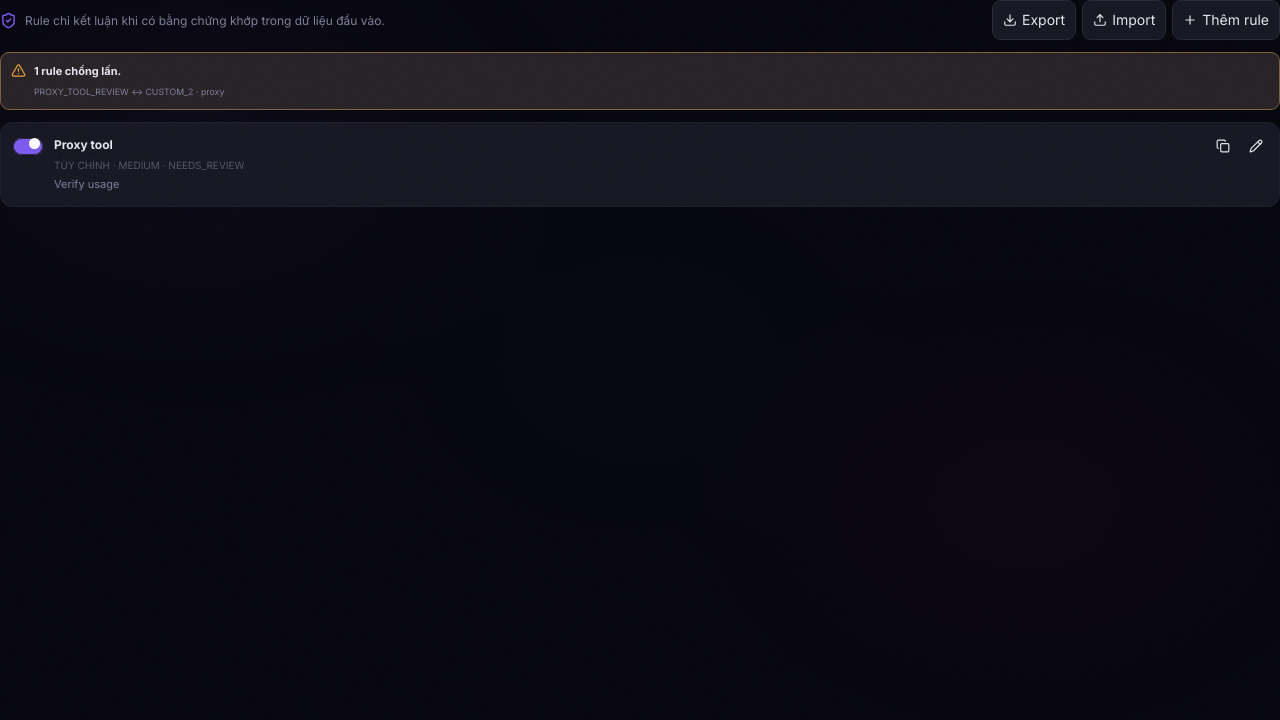
RuleManager › requires a current dry-run before saving and applying a rule
The width and height of the screenshot is (1280, 720).
Click the button "Thêm rule": (1226, 20) top-left (1172, 0), bottom-right (1279, 40)
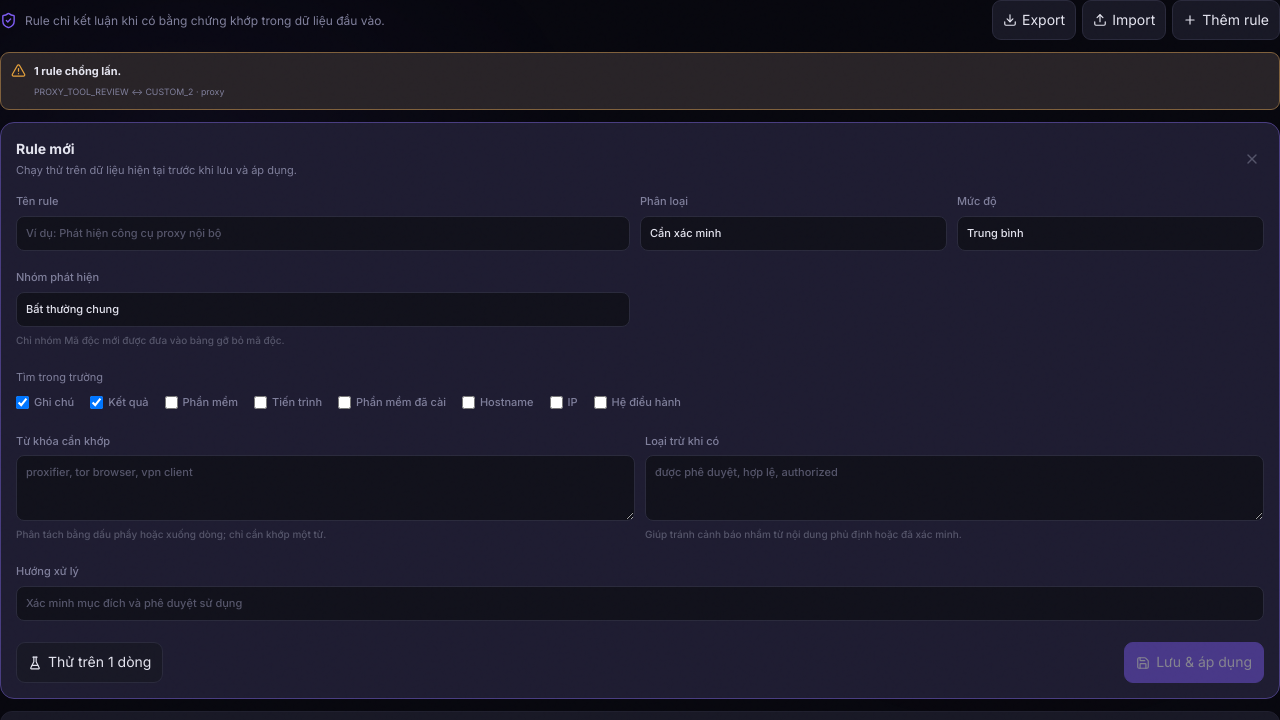
In the field labelled "Tên rule": (323, 233) top-left (16, 216), bottom-right (630, 251), type "Proxy nội bộ"
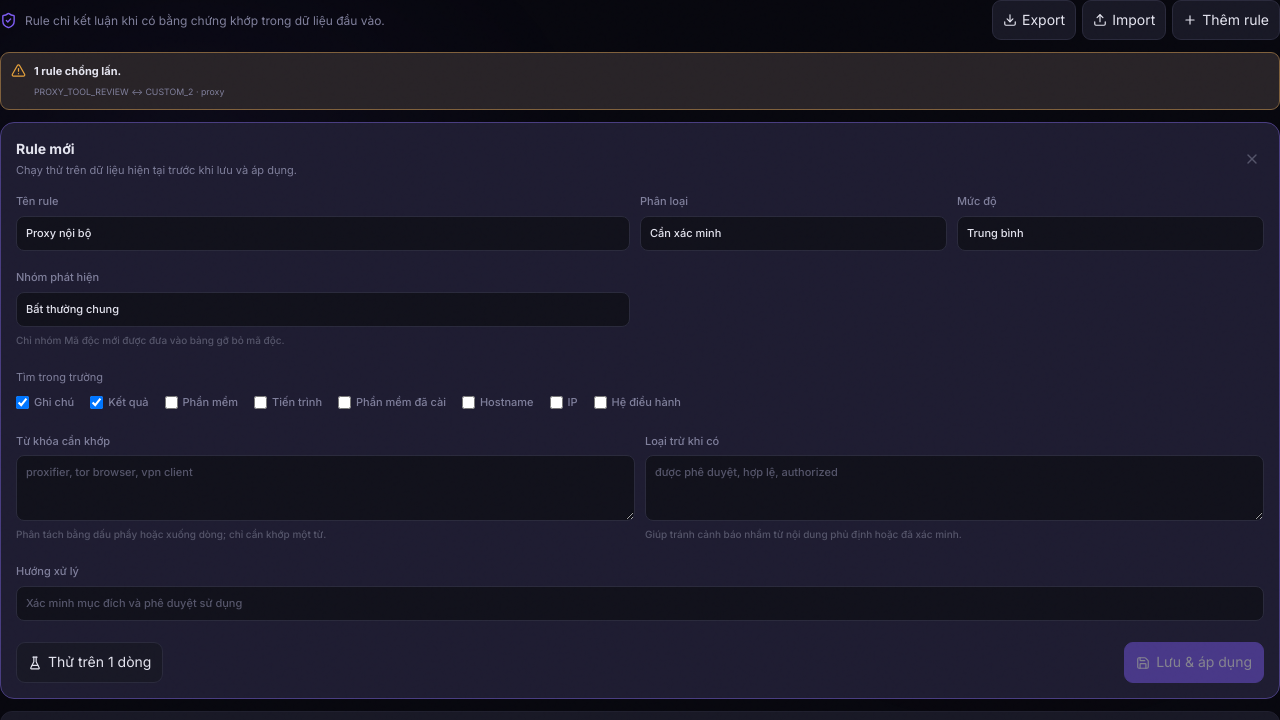
In the text box labelled "Từ khóa cần khớp": (326, 488) top-left (16, 455), bottom-right (635, 521), type "Acme Relay"
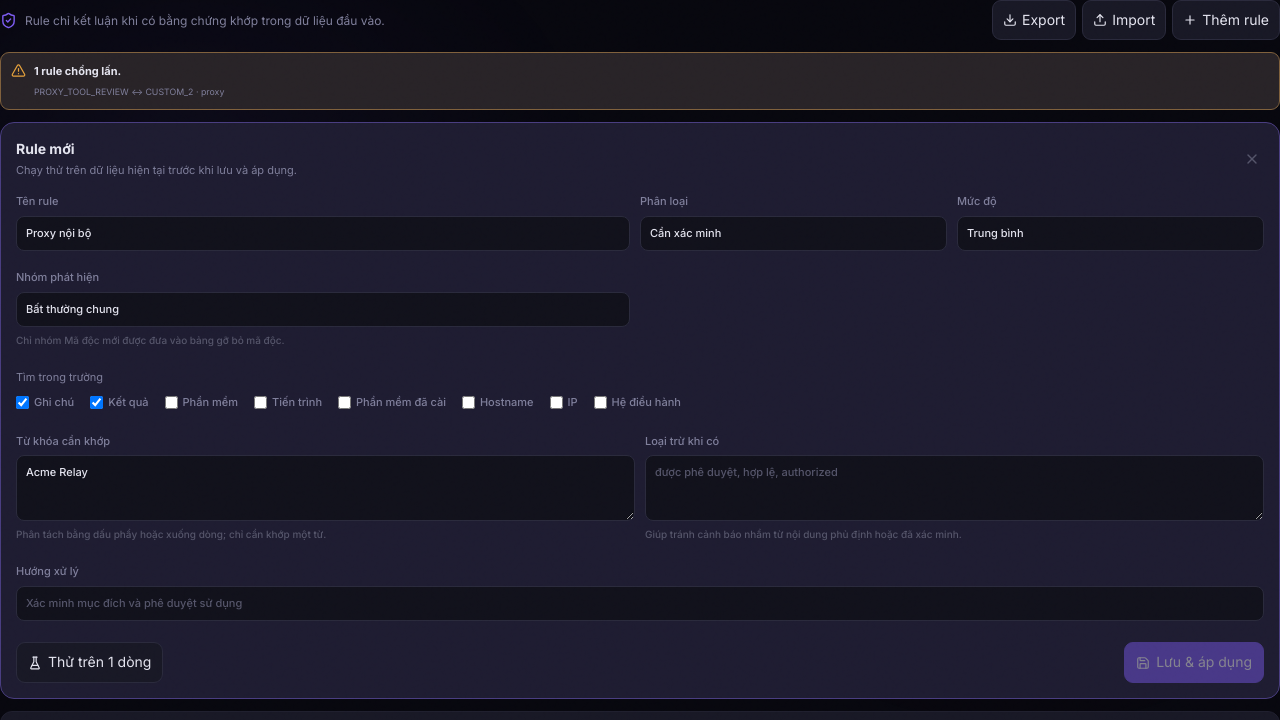
Expected: the button "Lưu & áp dụng" is disabled, top-left (1124, 642), bottom-right (1264, 683)
Click the button "Thử trên 1 dòng": (90, 663) top-left (16, 642), bottom-right (163, 683)
(page scrolled)
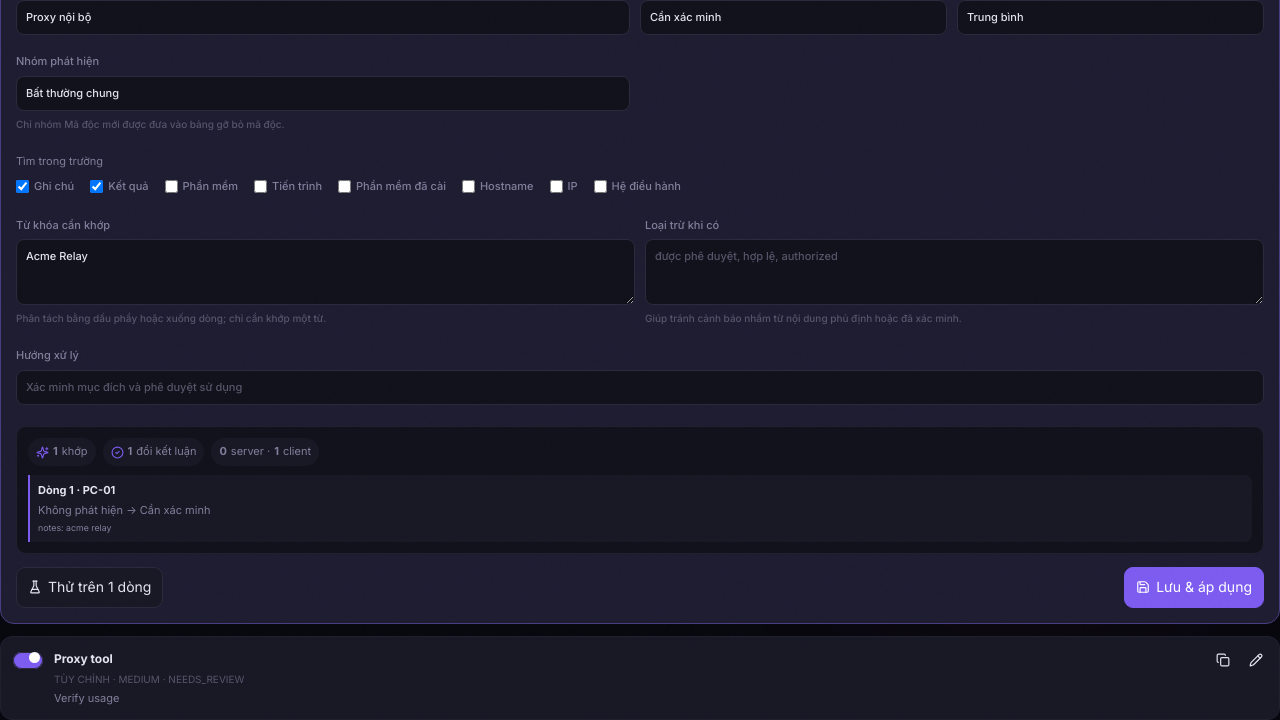
Expected: the text "1 đổi kết luận" is shown, top-left (103, 438), bottom-right (204, 466)
Expected: the button "Lưu & áp dụng" is enabled
Click the button "Lưu & áp dụng": (1194, 587) top-left (1124, 567), bottom-right (1264, 608)
(page scrolled)
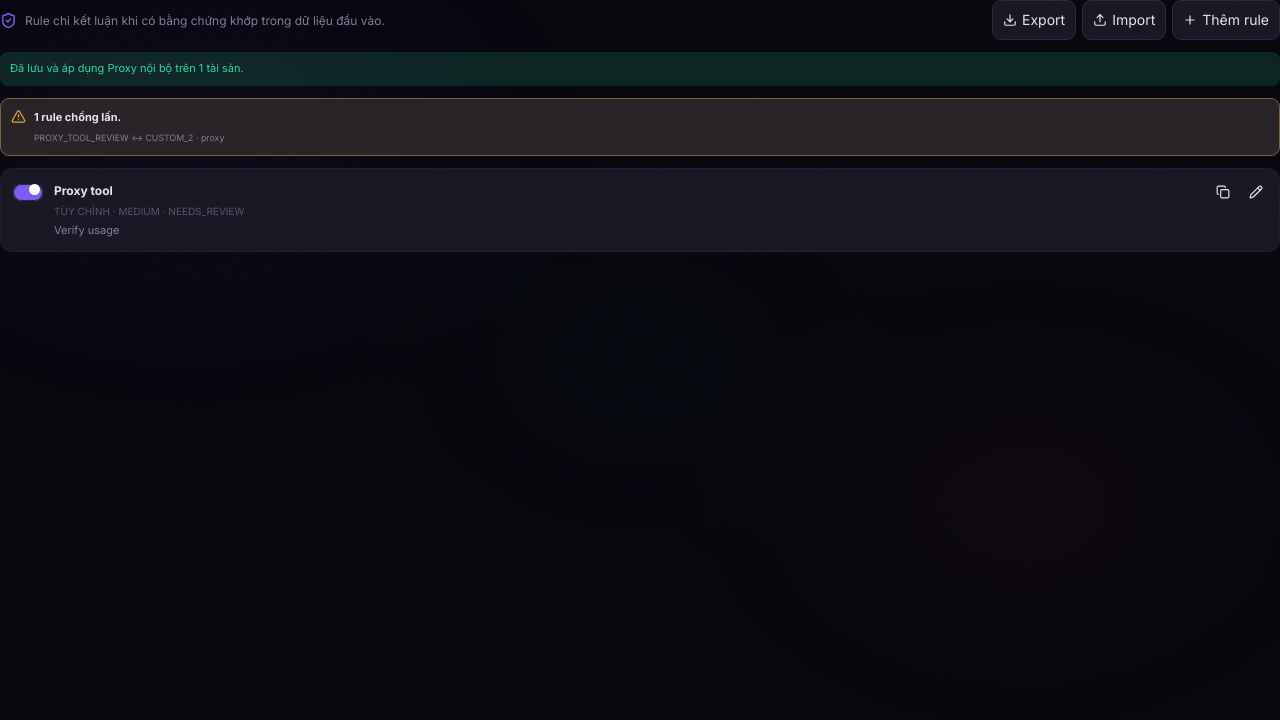
Expected: the text "Đã lưu và áp dụng Proxy nội bộ trên 1 tài sản." is shown, top-left (0, 52), bottom-right (1279, 86)
